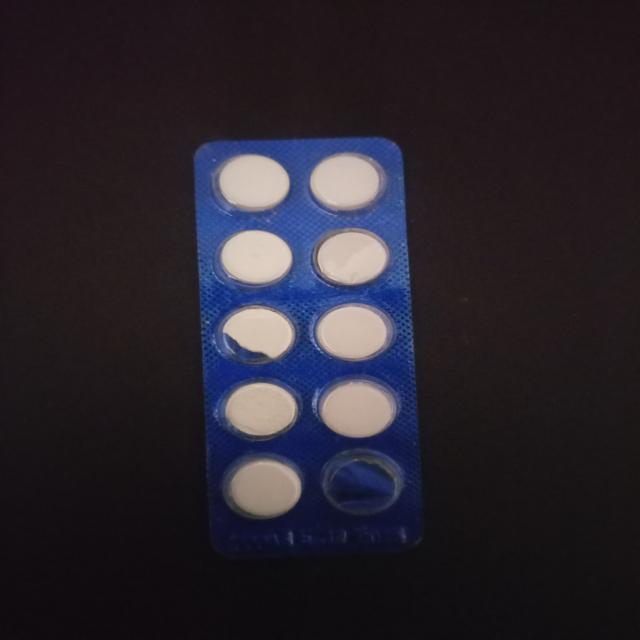defect: (318, 445, 408, 519), (212, 303, 303, 368)
